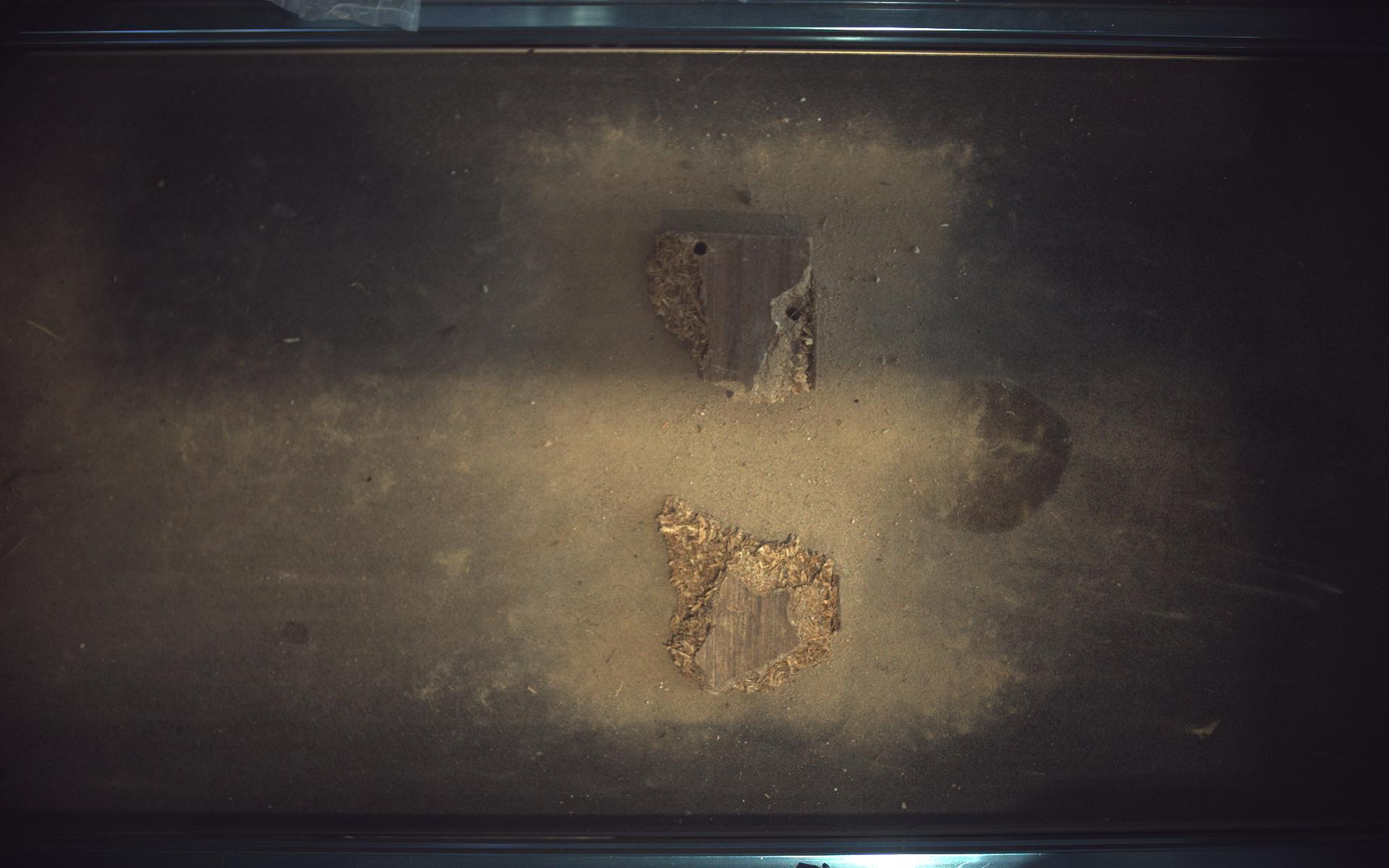wood: (658, 498, 841, 694), (648, 231, 817, 402)
